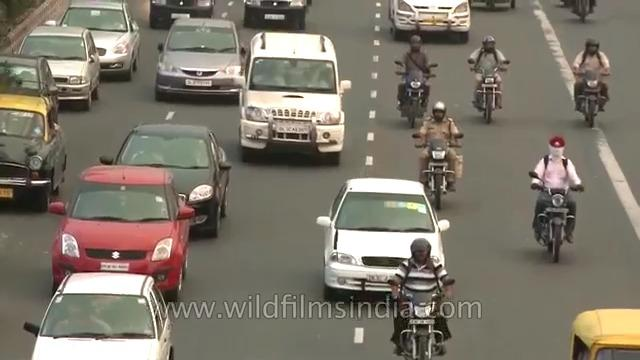Auto: (565, 305, 640, 355)
Bike: (390, 237, 453, 360), (526, 133, 577, 266), (418, 95, 464, 212), (467, 35, 510, 128), (573, 30, 612, 129), (392, 31, 431, 129)
Car: (57, 156, 187, 296), (318, 173, 448, 302), (241, 31, 353, 168), (104, 125, 235, 236), (34, 272, 177, 360), (153, 15, 245, 109), (60, 0, 145, 85), (18, 24, 100, 111)
